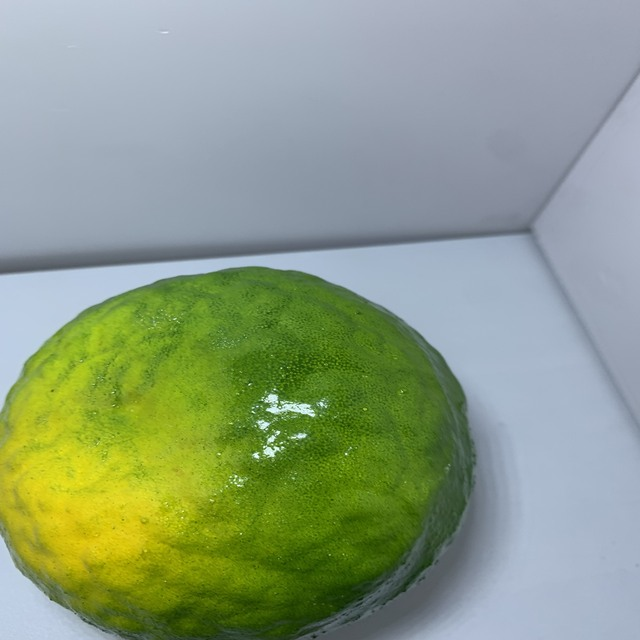Cam xanh: (0, 265, 476, 640)
